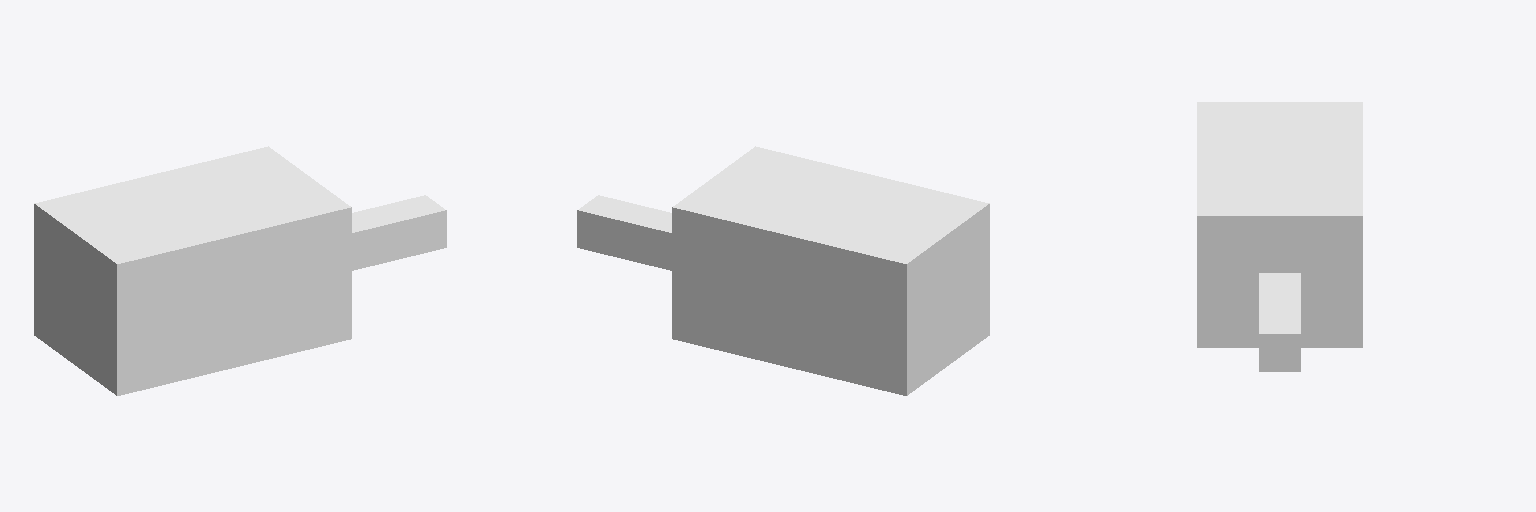
The model's file is lv1_turret.obj.
The picture shows the model from 3 angles: view 1: azimuth 30°, elevation 25°; view 2: azimuth 150°, elevation 25°; view 3: azimuth 270°, elevation 25°; orthographic projection.
Parts seen in each view (by area): view 1: object 1; view 2: object 1; view 3: object 1.
Boxes of the visible parts, x1=… form: object 1: x1=34, y1=146, x2=446, y2=395; object 1: x1=577, y1=146, x2=989, y2=395; object 1: x1=1197, y1=102, x2=1362, y2=371.
Size of the model in its own units: 2 by 0.7 by 0.8.